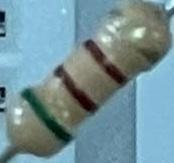Brown: (53, 63, 101, 115)
Green: (20, 87, 74, 145)
Red: (81, 37, 132, 86)
Side-Silver: (102, 10, 166, 67)
